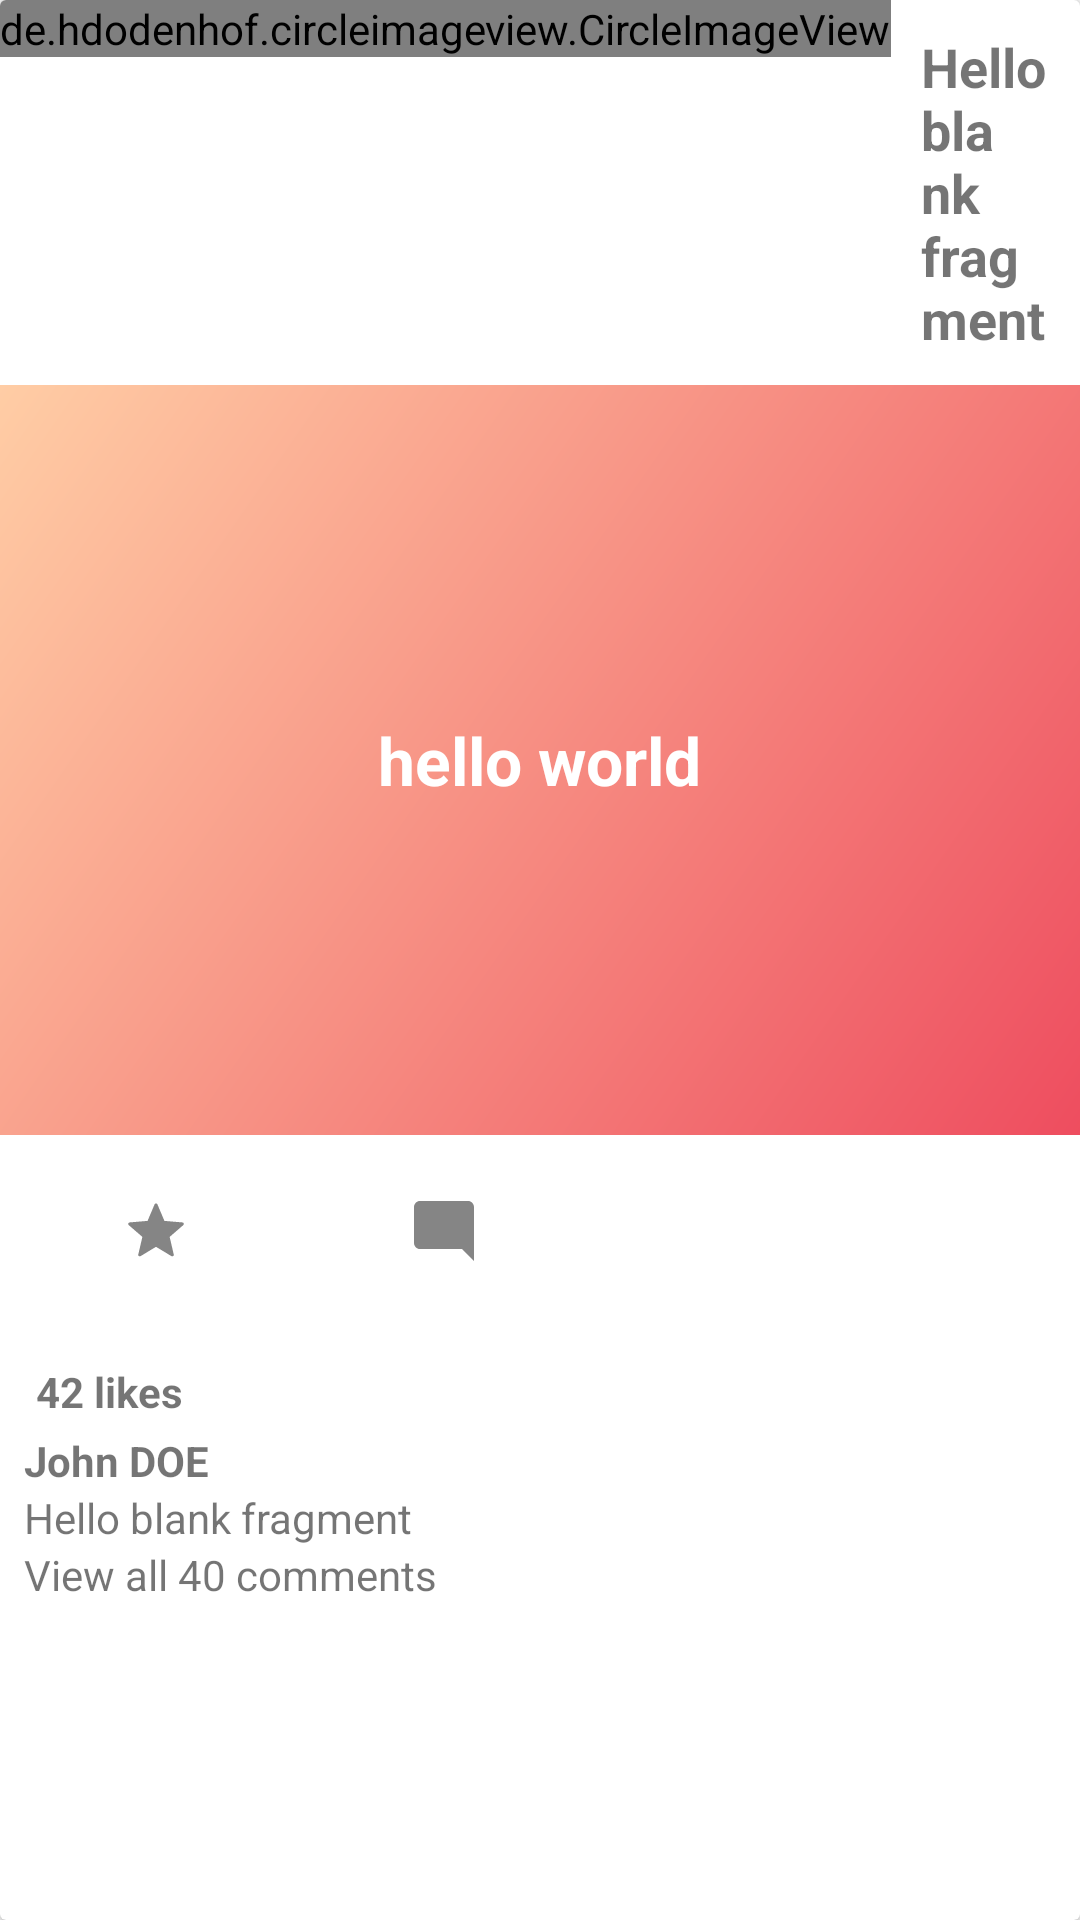

Screen size 1080w x 1920h. Icon name, then its box in pixels as (x1, y1, x2, y2):
comment: (414, 1201, 474, 1261)
star: (128, 1203, 184, 1257)
